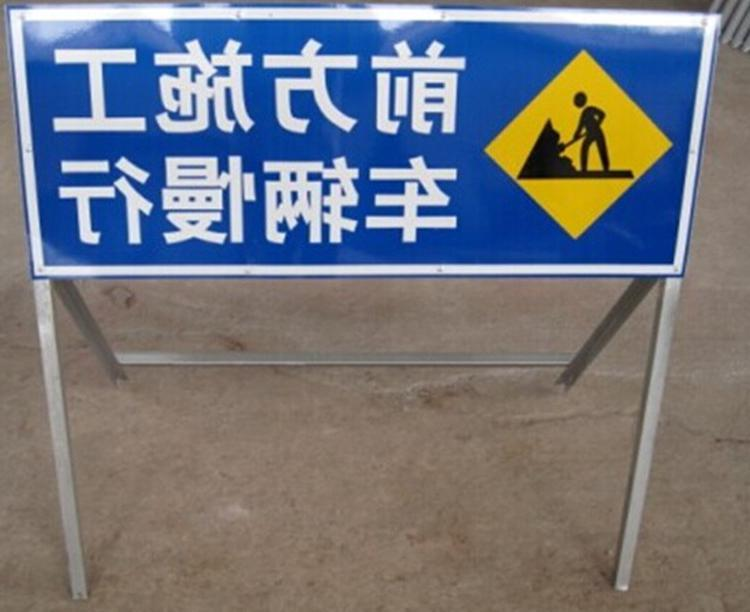sign: (13, 11, 714, 276)
